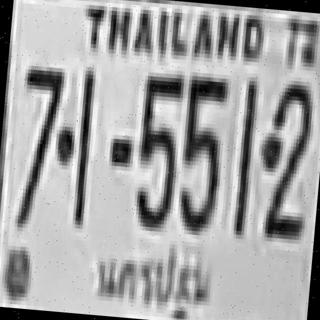N01: (61, 62, 108, 235), (231, 76, 257, 227), (232, 78, 257, 214)
N02: (255, 78, 314, 232), (256, 78, 312, 220)
N05: (175, 71, 227, 232), (130, 72, 183, 228)
N07: (13, 61, 63, 218), (16, 63, 62, 182), (17, 63, 62, 170)
P28: (82, 235, 218, 320)
